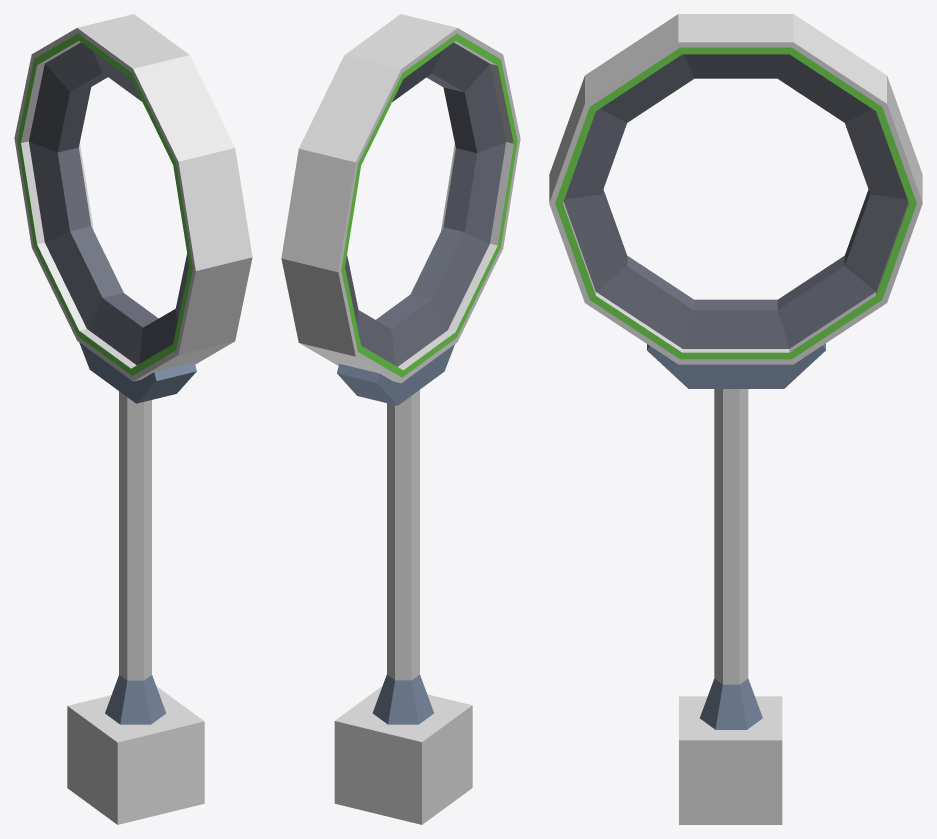
The model's file is slipstream_0.fbx.
3 renders of one model, left to right at view 1: azimuth 30°, elevation 25°; view 2: azimuth 150°, elevation 25°; view 3: azimuth 270°, elevation 25°, orthographic. The views are drawn at different scales.
Visible parts, largest first — view 1: Cylinder; view 2: Cylinder; view 3: Cylinder.
Part boxes in pixels (x1,y1,x2,y2): Cylinder: (14, 14, 252, 824); Cylinder: (281, 14, 520, 824); Cylinder: (549, 14, 922, 824).
Size of the model in its own units: 122 by 1008 by 441.
